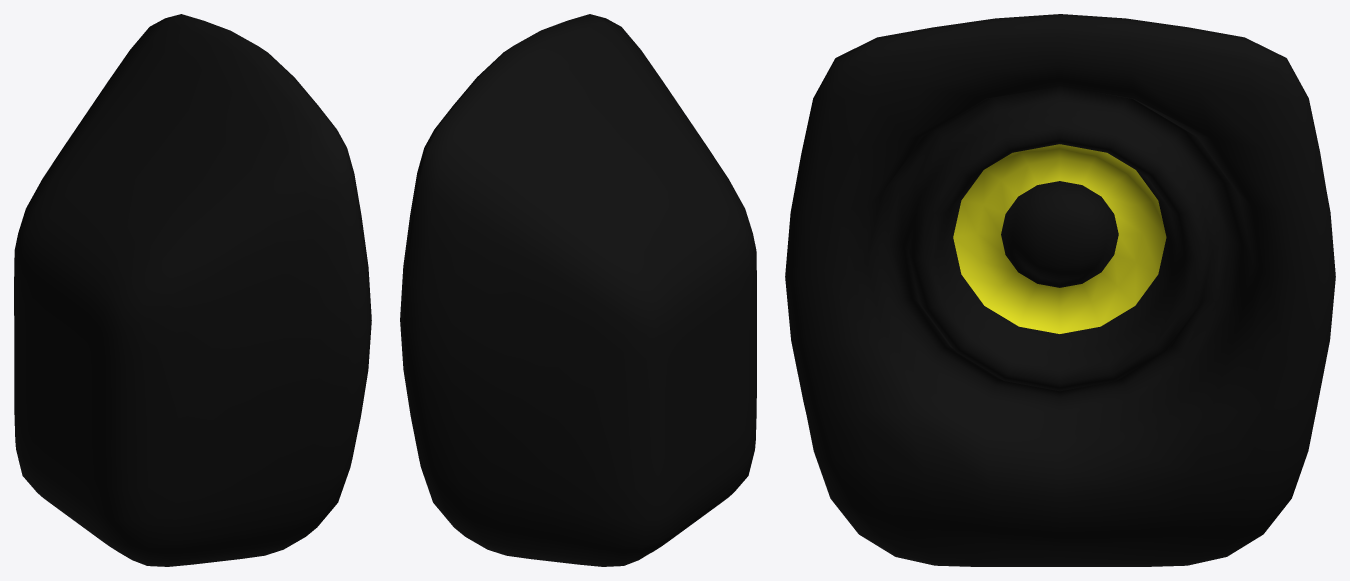
File: music_speaker.glb
3 views of the same model, side by side, from view 1: azimuth 30°, elevation 25°; view 2: azimuth 150°, elevation 25°; view 3: azimuth 270°, elevation 25° (orthographic). The views are drawn at different scales.
Visible parts, largest first — view 1: Cube; view 2: Cube; view 3: Cube.
Part boxes in pixels (<box>): Cube: <box>14,14,371,566</box>; Cube: <box>400,14,756,566</box>; Cube: <box>785,14,1335,566</box>.
Bounding box in the file's own units: 0.5533 × 1.15 × 0.9825.
